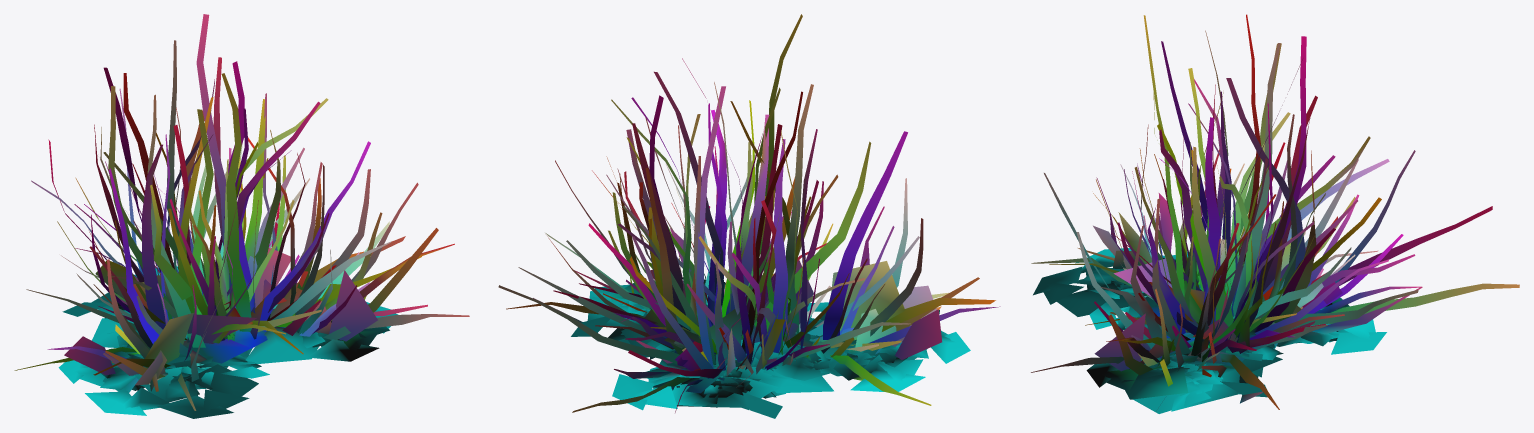
File: Wild_Grass_vczndjqja_Mid_vczndjqja_VarG_LOD2.fbx
3 views of the same model, side by side, from view 1: azimuth 30°, elevation 25°; view 2: azimuth 150°, elevation 25°; view 3: azimuth 270°, elevation 25° (orthographic). The views are drawn at different scales.
Parts seen in each view (by area): view 1: _5xb1_VarG_LOD3; view 2: _5xb1_VarG_LOD3; view 3: _5xb1_VarG_LOD3.
Part boxes in pixels (x1,y1,x2,y2): _5xb1_VarG_LOD3: (14,14,469,418); _5xb1_VarG_LOD3: (498,14,1000,418); _5xb1_VarG_LOD3: (1031,14,1519,413).
Bounding box in the file's own units: 119 × 87.19 × 123.
